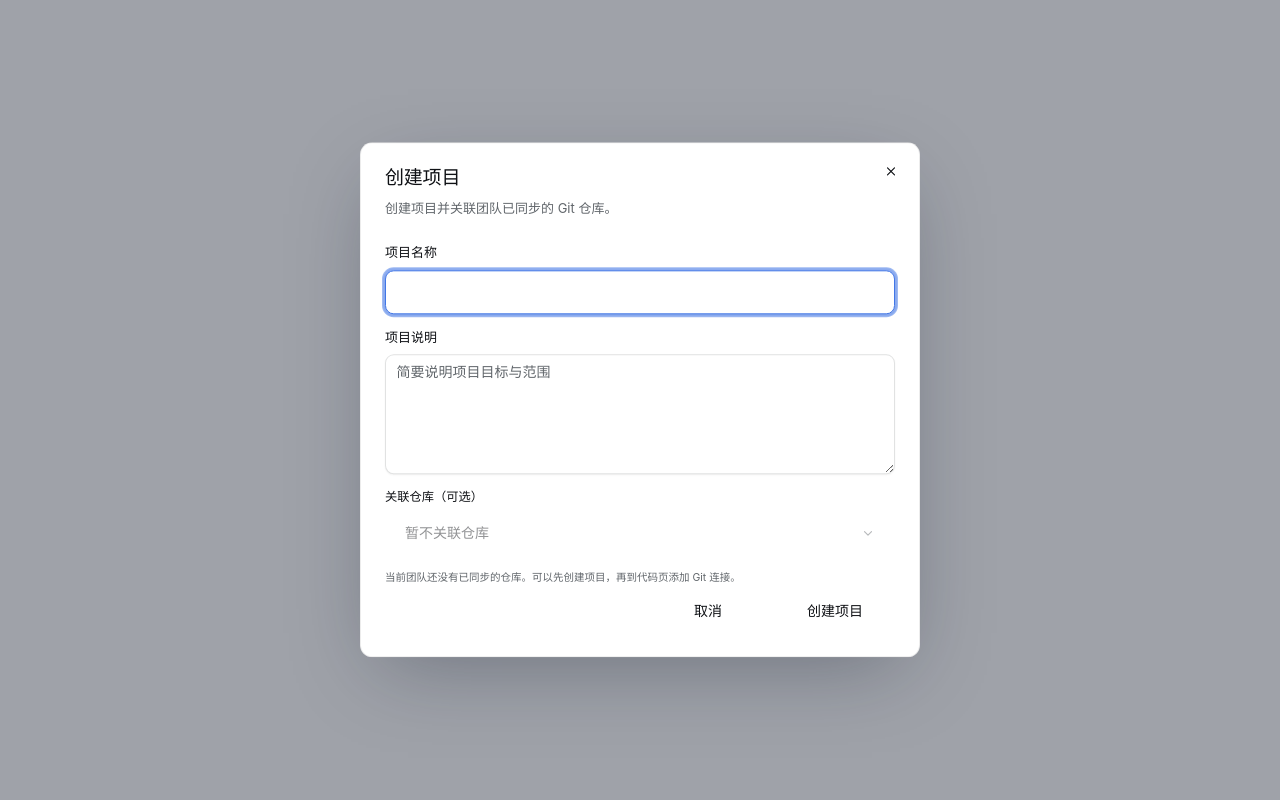
Scenario: ProjectForm › 业务冲突显示可读错误
Type "重复项目" into the field labelled "项目名称".
click(640, 292); type("重复项目")  # box left=385, top=270, right=895, bottom=314
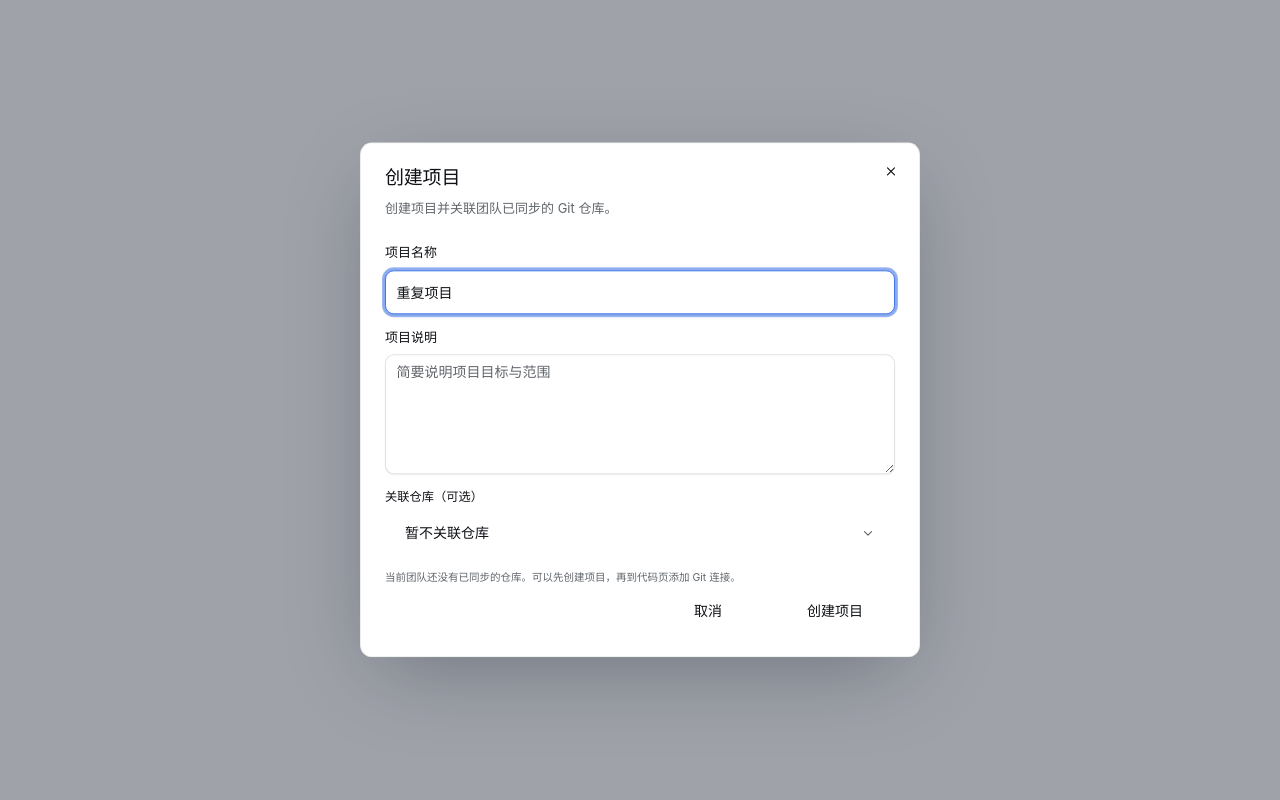
Click the button "创建项目".
click(835, 611)  # box left=775, top=589, right=895, bottom=633
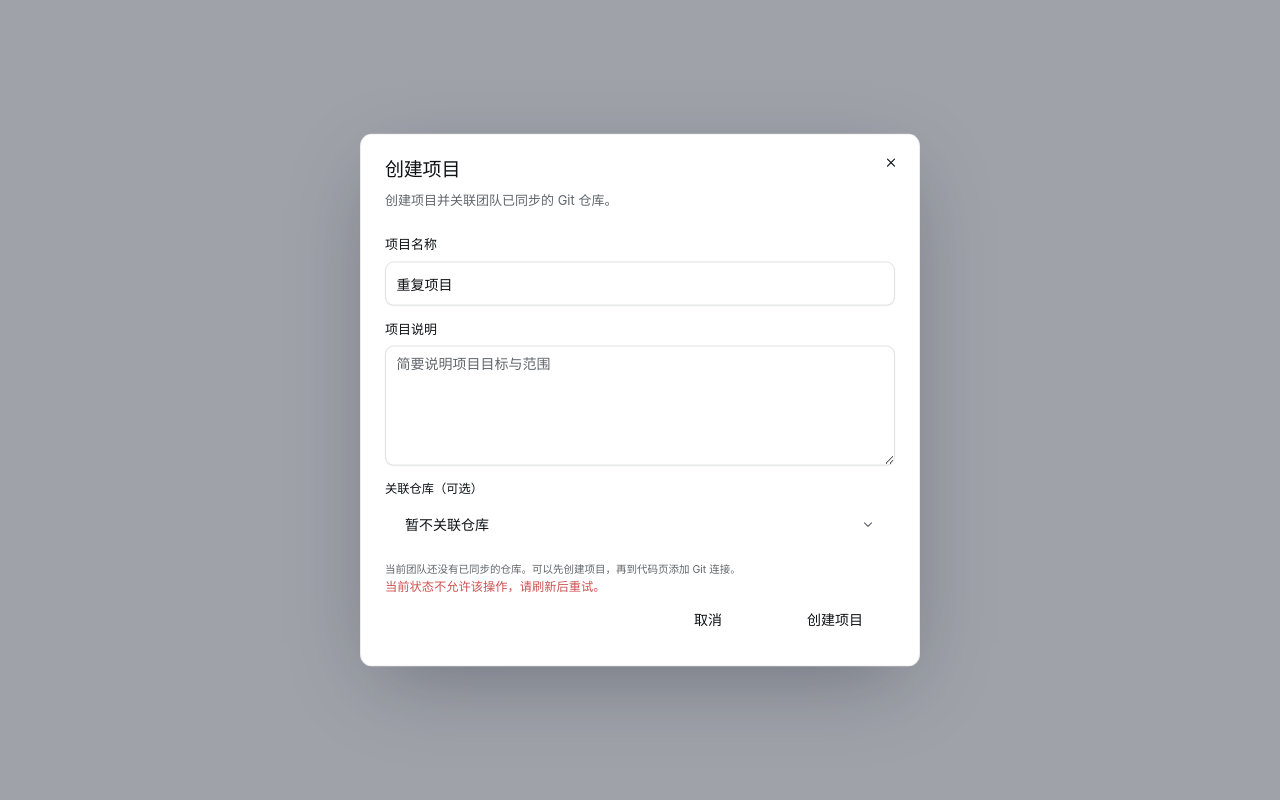
Expected: the message shows "当前状态不允许该操作", left=385, top=579, right=606, bottom=594
